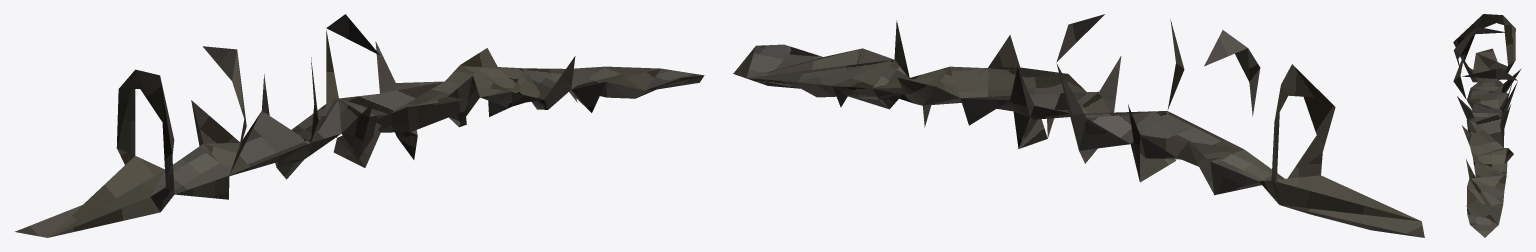
Rendered from stunt-hoop-tunnel.collision.glb.
3 renders of one model, left to right at view 1: azimuth 30°, elevation 25°; view 2: azimuth 150°, elevation 25°; view 3: azimuth 270°, elevation 25°, orthographic. The views are drawn at different scales.
Visible parts, largest first — view 1: output_unwrapped; view 2: output_unwrapped; view 3: output_unwrapped.
Boxes of the visible parts, bbox=[...] form: output_unwrapped: bbox=[15, 14, 704, 237]; output_unwrapped: bbox=[733, 14, 1424, 237]; output_unwrapped: bbox=[1453, 14, 1520, 237].
Size of the model in its own units: 1.81 by 0.3886 by 0.2866.
1 material, 1 textured.
